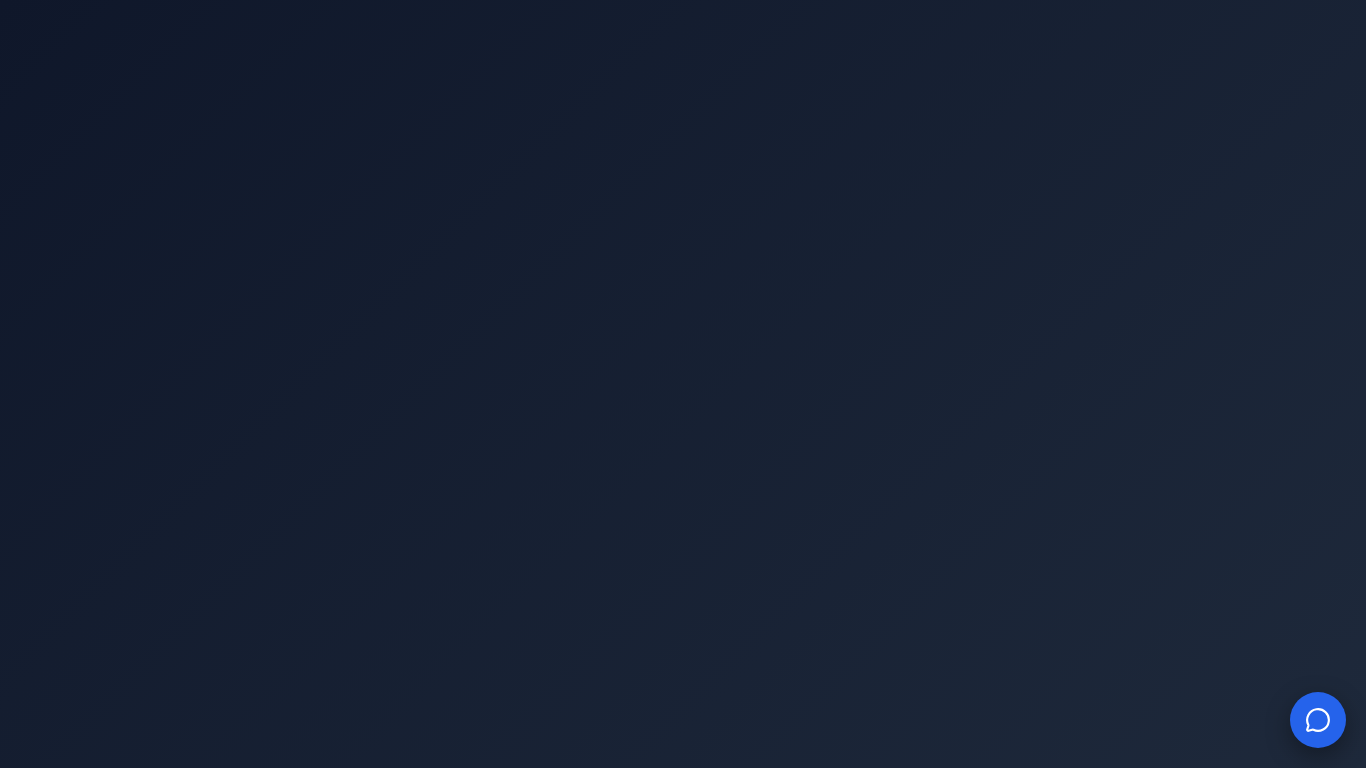
Test: ChatWidget › muestra el error traducido y no lo envía como contexto en la siguiente pregunta
Click the button named "Abrir el asistente del clima" at (1318, 720), box [1290, 692, 1346, 748]
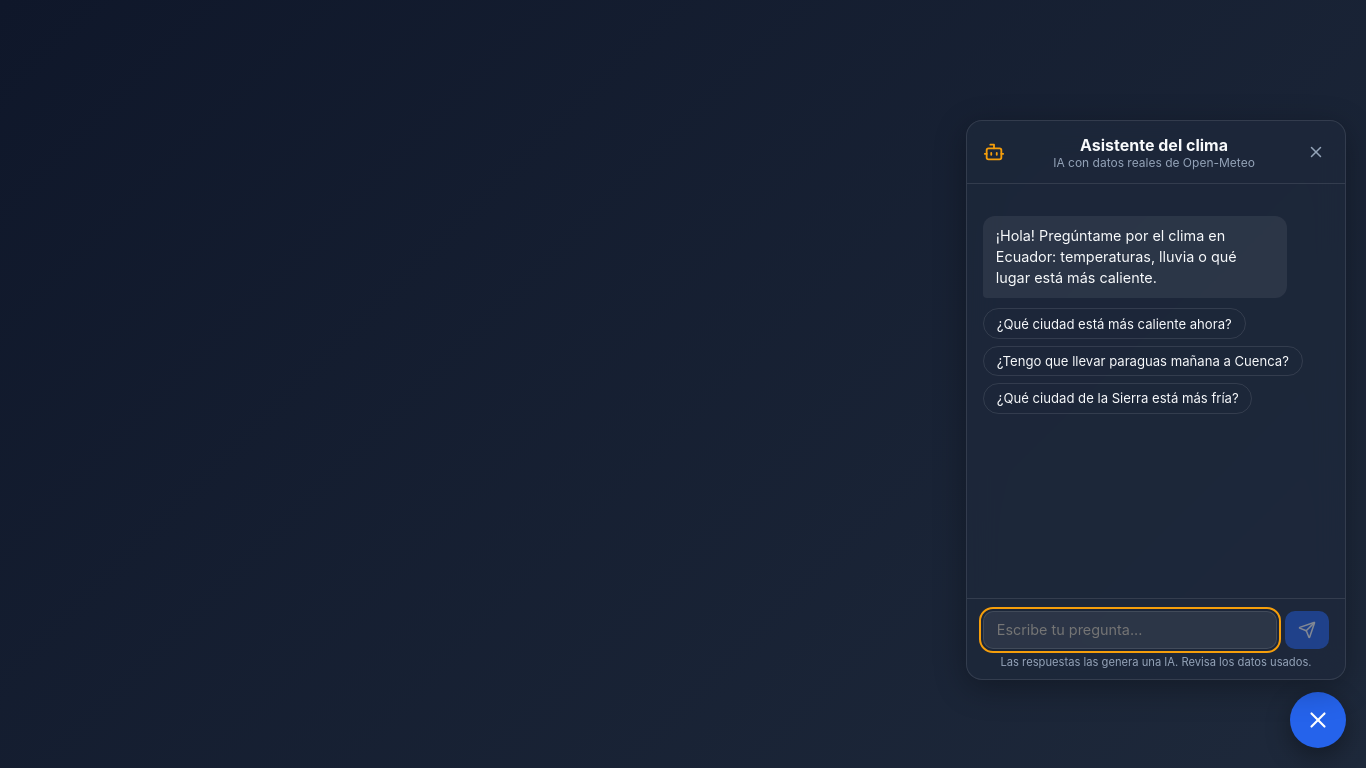
Type "Primera pregunta" into the field labelled "Escribe tu pregunta" at (1130, 630), box [983, 611, 1277, 649]
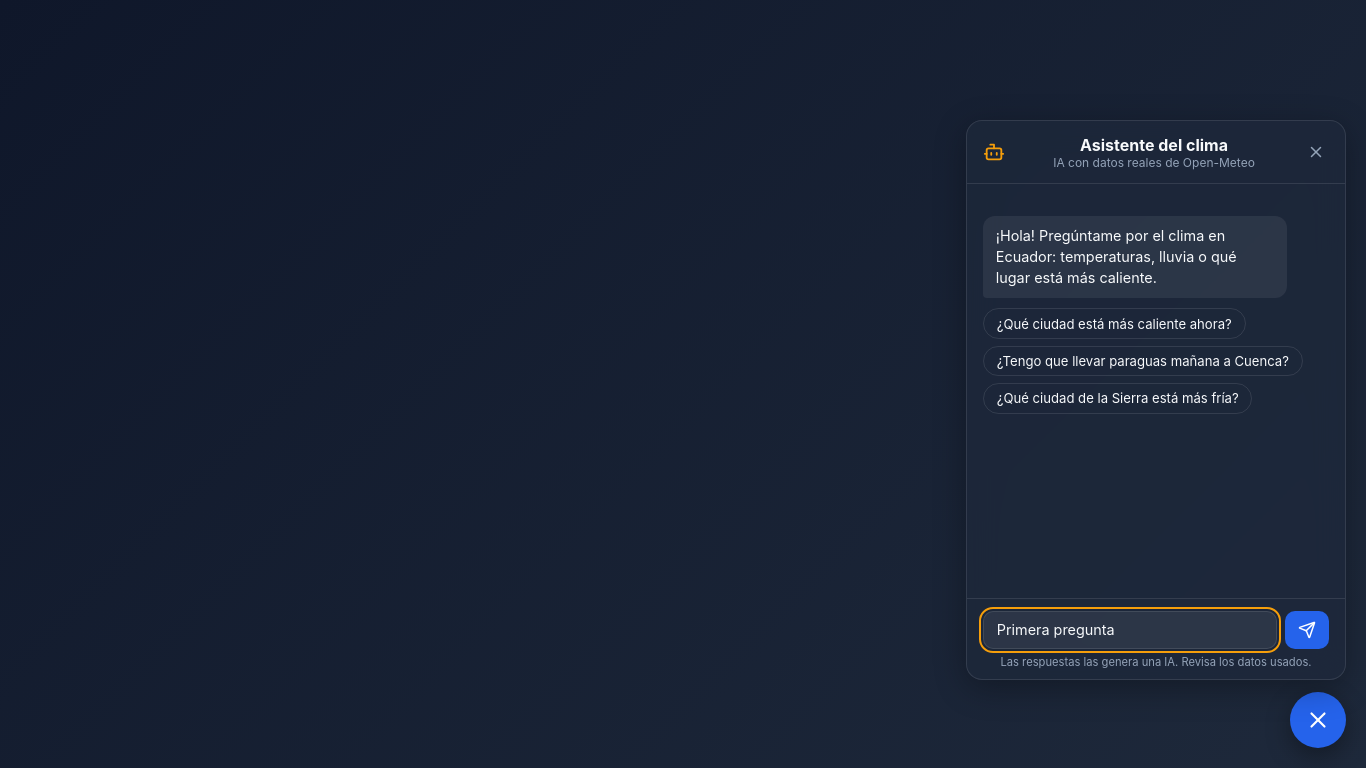
Click the button named "Enviar pregunta" at (1307, 630), box [1285, 611, 1329, 649]
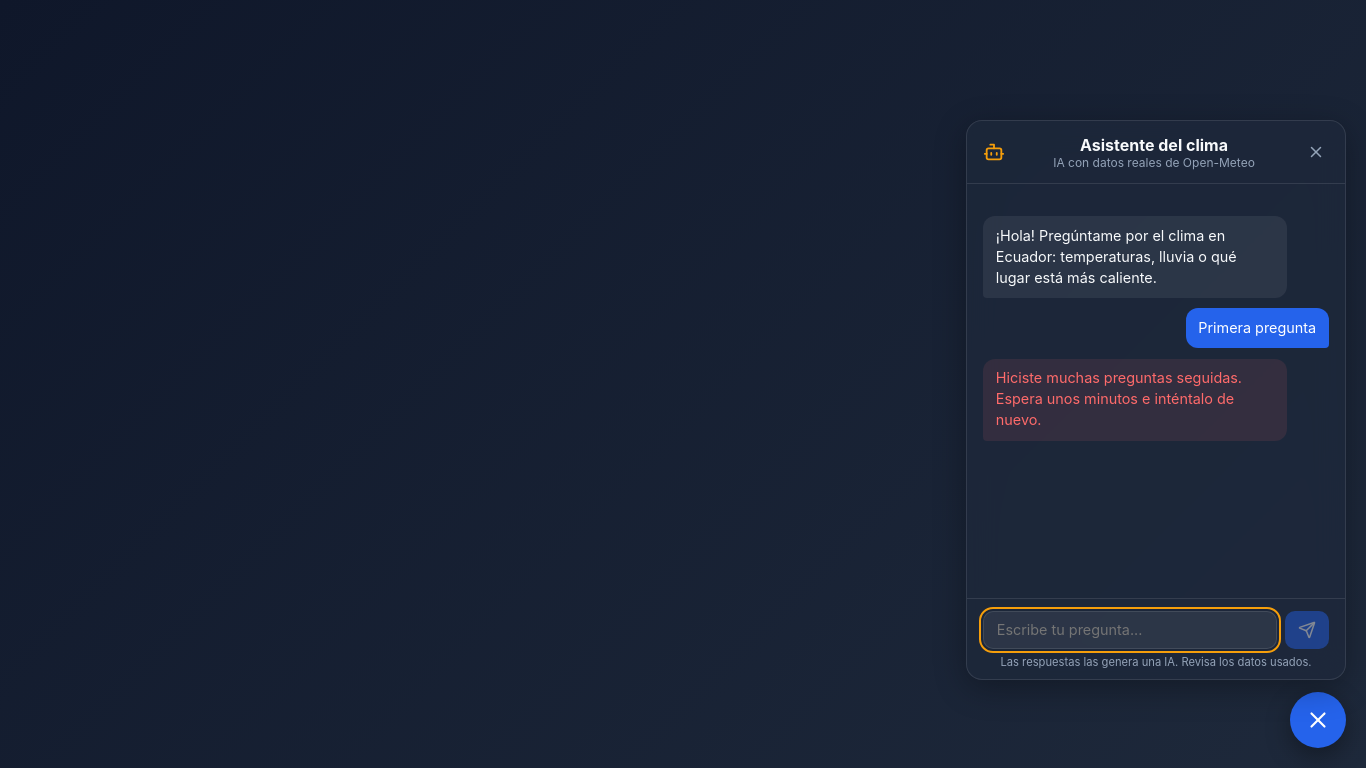
Result: the message shows "Hiciste muchas preguntas seguidas" at [996, 369, 1242, 428]
Type "Segunda pregunta" into the field labelled "Escribe tu pregunta" at (1130, 630), box [983, 611, 1277, 649]
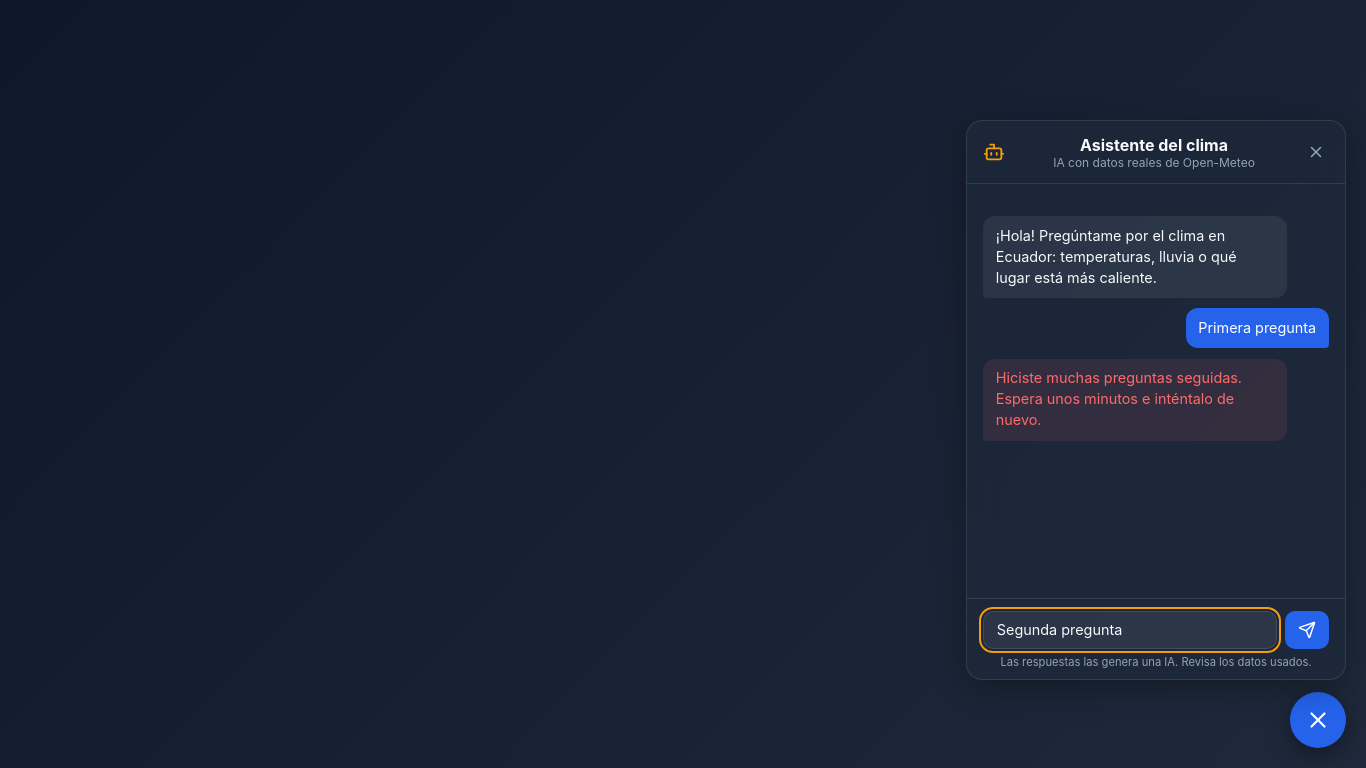
Click the button named "Enviar pregunta" at (1307, 630), box [1285, 611, 1329, 649]
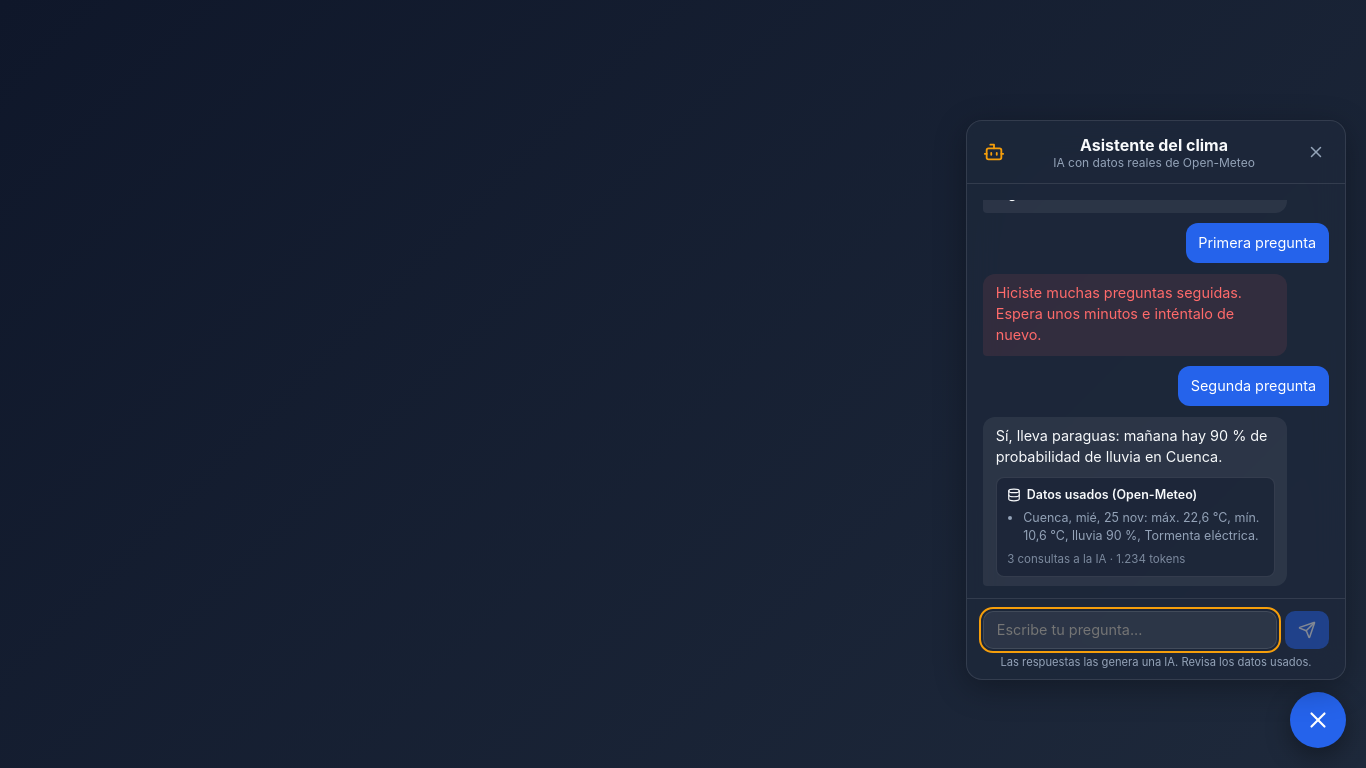
Result: the text "Sí, lleva paraguas: mañana hay 90 % de probabilidad de lluvia en Cuenca." is shown at [996, 426, 1275, 468]
